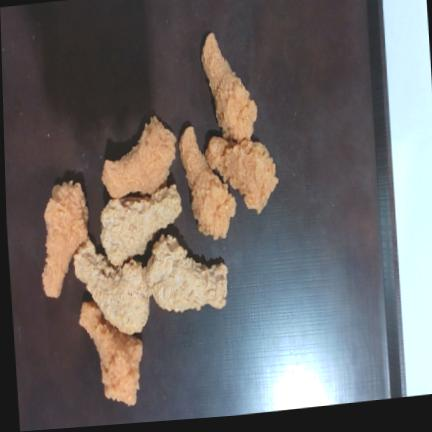chicken: (74, 239, 150, 334), (101, 184, 181, 265), (80, 301, 142, 405), (179, 127, 236, 239), (146, 235, 228, 312), (202, 33, 257, 142), (102, 117, 176, 198), (206, 137, 279, 214), (42, 181, 88, 298)
